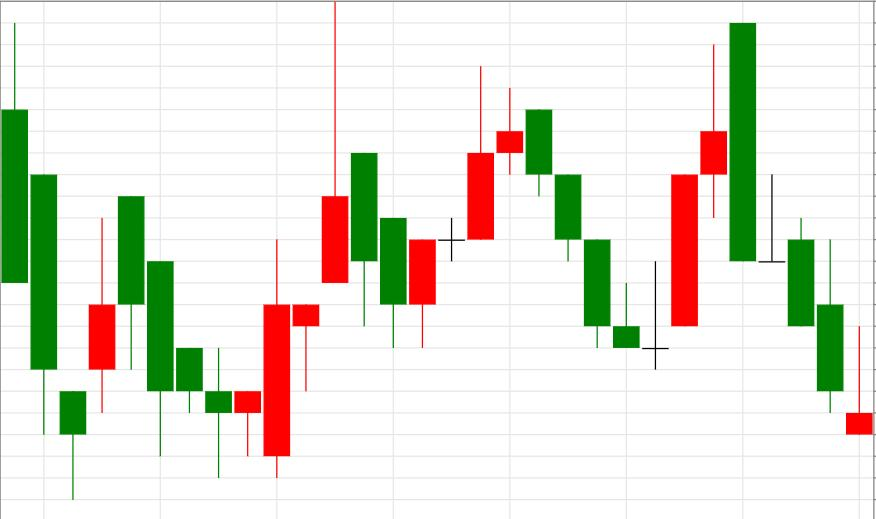three_black_crows_fall: (409, 66, 610, 348)
